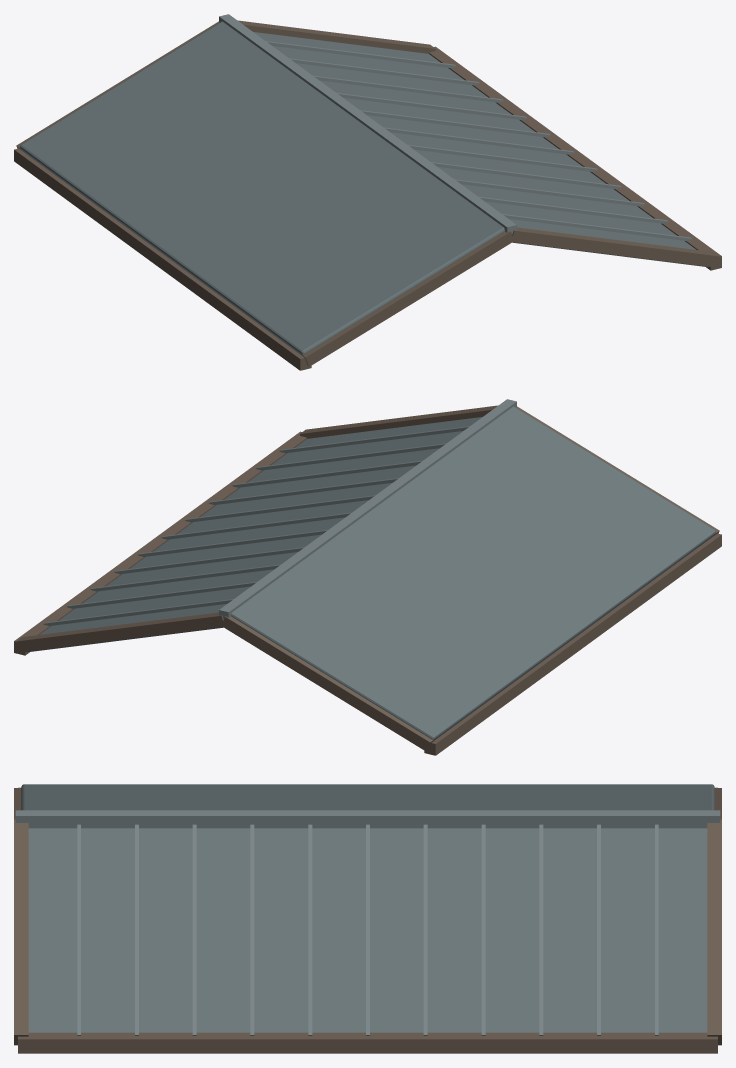
File: Lake_Roof_Low.glb
3 renders of one model, top to bottom at view 1: azimuth 30°, elevation 25°; view 2: azimuth 150°, elevation 25°; view 3: azimuth 270°, elevation 25°, orthographic. The views are drawn at different scales.
Visible parts, largest first — view 1: Roof surface.002, Roof surface.003, Standing seam.046, Standing seam.065, Standing seam.061, Standing seam.062, Standing seam.060, Standing seam.064, Standing seam.057, Standing seam.054, Standing seam.051, Standing seam.050 (+7 smaller); view 2: Roof surface.002, Roof surface.003, Standing seam.046, Standing seam.065, Standing seam.063, Standing seam.064, Standing seam.060, Standing seam.062, Standing seam.049, Standing seam.052, Standing seam.055, Standing seam.048 (+7 smaller); view 3: Roof surface.003, Roof surface.002, Standing seam.060, Standing seam.065, Standing seam.062, Standing seam.064, Standing seam.050, Standing seam.051, Standing seam.052, Standing seam.054, Standing seam.055, Standing seam.056 (+5 smaller).
Part boxes in pixels (x1=…): Roof surface.002: x1=20, y1=21, x2=504, y2=355; Roof surface.003: x1=253, y1=32, x2=708, y2=267; Standing seam.046: x1=14, y1=148, x2=311, y2=370; Standing seam.065: x1=219, y1=14, x2=516, y2=234; Standing seam.061: x1=302, y1=231, x2=514, y2=366; Standing seam.062: x1=511, y1=227, x2=719, y2=267; Standing seam.060: x1=429, y1=46, x2=721, y2=270; Standing seam.064: x1=237, y1=20, x2=435, y2=53; Standing seam.057: x1=289, y1=58, x2=479, y2=85; Standing seam.054: x1=360, y1=110, x2=550, y2=137; Standing seam.051: x1=431, y1=162, x2=621, y2=189; Standing seam.050: x1=455, y1=179, x2=645, y2=206; Roof surface.002: x1=231, y1=406, x2=715, y2=739; Roof surface.003: x1=27, y1=417, x2=482, y2=652; Standing seam.046: x1=424, y1=533, x2=721, y2=755; Standing seam.065: x1=219, y1=399, x2=516, y2=619; Standing seam.063: x1=221, y1=616, x2=435, y2=751; Standing seam.064: x1=16, y1=612, x2=223, y2=652; Standing seam.060: x1=14, y1=431, x2=306, y2=655; Standing seam.062: x1=300, y1=405, x2=498, y2=438; Standing seam.049: x1=256, y1=443, x2=446, y2=470; Standing seam.052: x1=185, y1=495, x2=375, y2=522; Standing seam.055: x1=114, y1=547, x2=304, y2=574; Standing seam.048: x1=279, y1=426, x2=469, y2=453; Roof surface.003: x1=28, y1=828, x2=707, y2=1032; Roof surface.002: x1=21, y1=784, x2=714, y2=810; Standing seam.060: x1=18, y1=1032, x2=717, y2=1053; Standing seam.065: x1=15, y1=810, x2=720, y2=828; Standing seam.062: x1=14, y1=819, x2=28, y2=1045; Standing seam.064: x1=707, y1=819, x2=721, y2=1045; Standing seam.050: x1=192, y1=824, x2=196, y2=1035; Standing seam.051: x1=250, y1=824, x2=254, y2=1035; Standing seam.052: x1=308, y1=824, x2=312, y2=1035; Standing seam.054: x1=423, y1=824, x2=427, y2=1035; Standing seam.055: x1=481, y1=824, x2=485, y2=1035; Standing seam.056: x1=539, y1=824, x2=543, y2=1035.
Size of the model in its own units: 5.24 by 1.12 by 6.23.
